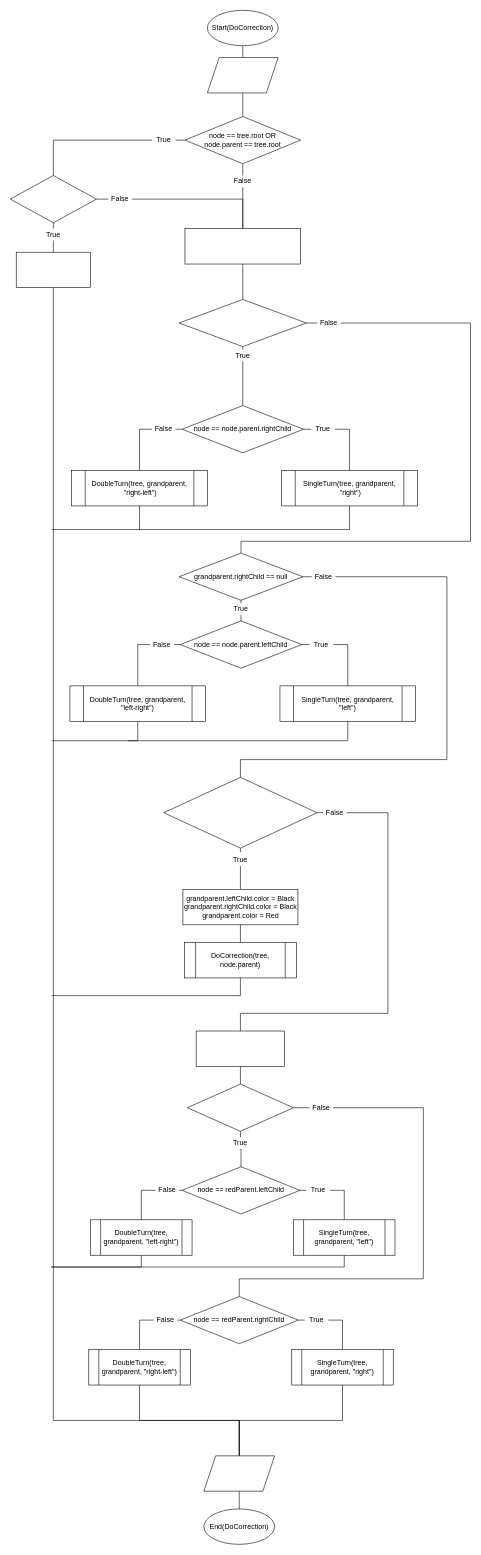
Image size: 481x1555. Some labels were removed from this diagram. Each missing label, with the box of its shape:
grandparent = node.parent.parent: (184, 228, 301, 264)
grandparent.leftChild == null: (178, 299, 307, 347)
grandparent.leftChild.color == Red AND grandparent.rightChild.color == Red: (163, 777, 317, 848)
redParent = node.parent: (196, 1030, 285, 1066)
redParent == grandparent.leftChild: (187, 1084, 294, 1131)
tree: (203, 1455, 275, 1491)
tree, node: (207, 57, 278, 93)
tree.root.color = Black: (16, 252, 91, 288)
tree.root.color == Red: (10, 175, 96, 223)
